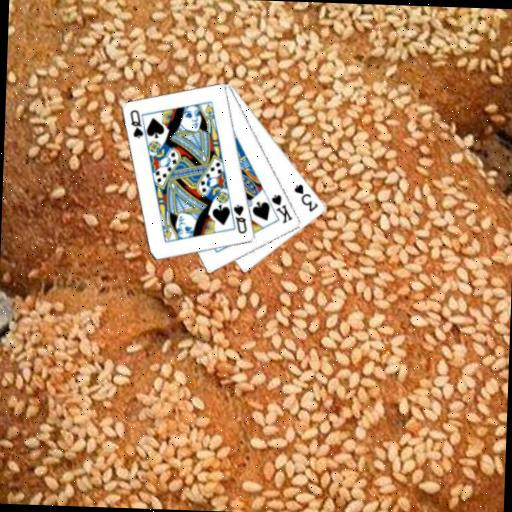3S: (290, 181, 320, 213)
KS: (267, 191, 295, 225)
QS: (229, 201, 249, 236), (126, 107, 146, 140)
